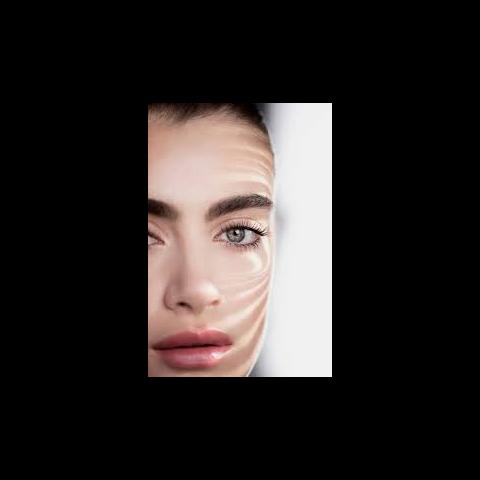opened: (148, 192, 273, 260)
